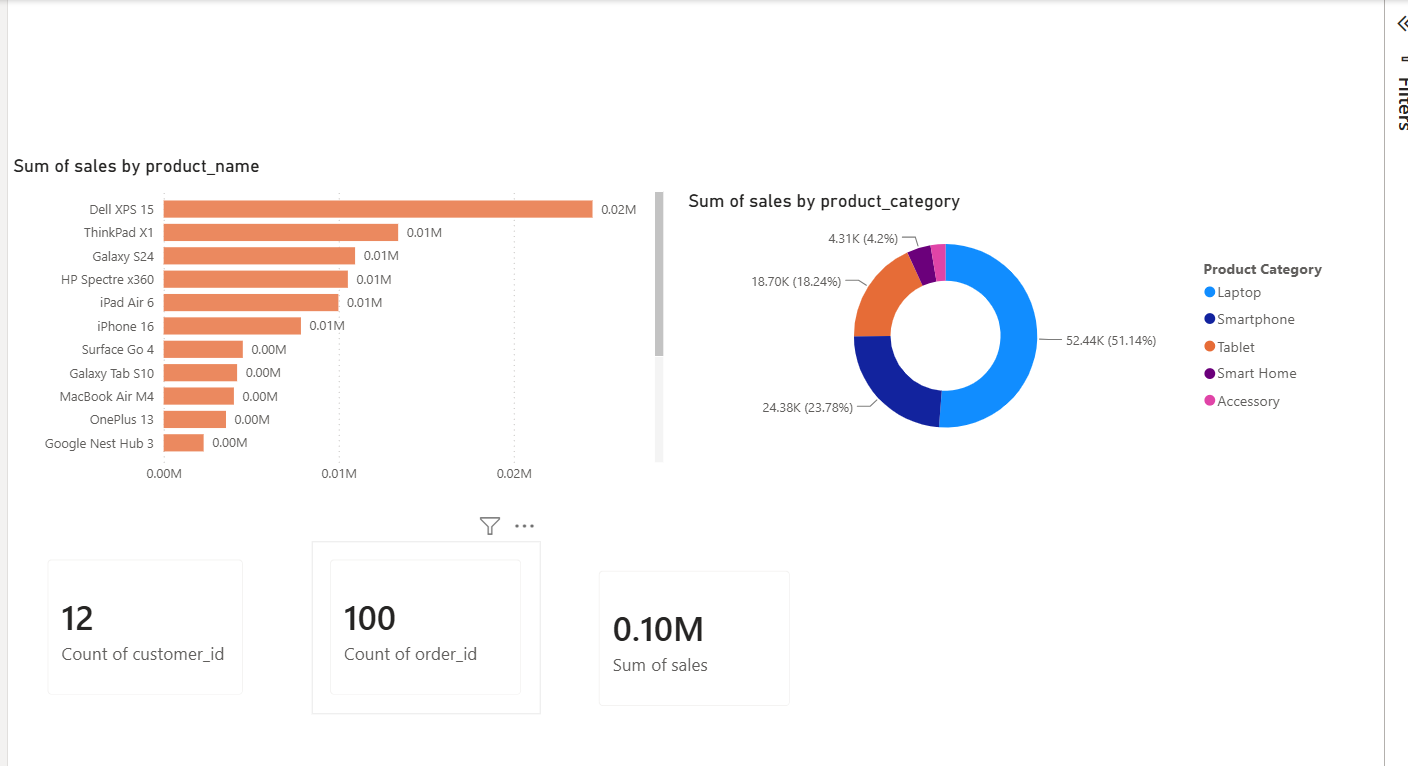

The page's visual inventory and layout, read from the dashboard file:
{"tool":"powerbi","page":{"name":"Page 1","canvas":[1280,720],"ordinal":0},"visuals":[{"type":"barChart","fields":{"Category":["orders.product_name"],"Y":["Sum(orders.sales)"]},"box":[0,143.7,614.9,315],"z":0},{"type":"donutChart","fields":{"Y":["Sum(orders.sales)"],"Category":["orders.product_category"]},"box":[627.5,176.4,614.9,250.8],"z":1000},{"type":"cardVisual","fields":{"Data":["Count(orders.customer_id)"]},"box":[20.2,504,216.7,160],"z":2000},{"type":"cardVisual","fields":{"Data":["Count(orders.order_id)"]},"box":[282.3,504,213,160],"z":3000},{"type":"cardVisual","fields":{"Data":["Sum(orders.sales)"]},"box":[533,514.1,213,160],"z":4000}]}

Visuals, with their boxes on the page's 1280x720 design canvas (x1, y1, x2, y2). These are canvas units, not pixel positions in the 1408x766 screenshot, which may show the page scaled, cropped or inside an application window:
barChart - orders.product_name x Sum(orders.sales): [0, 144, 615, 459]
donutChart - Sum(orders.sales) x orders.product_category: [628, 176, 1242, 427]
cardVisual - Count(orders.customer_id): [20, 504, 237, 664]
cardVisual - Count(orders.order_id): [282, 504, 495, 664]
cardVisual - Sum(orders.sales): [533, 514, 746, 674]
